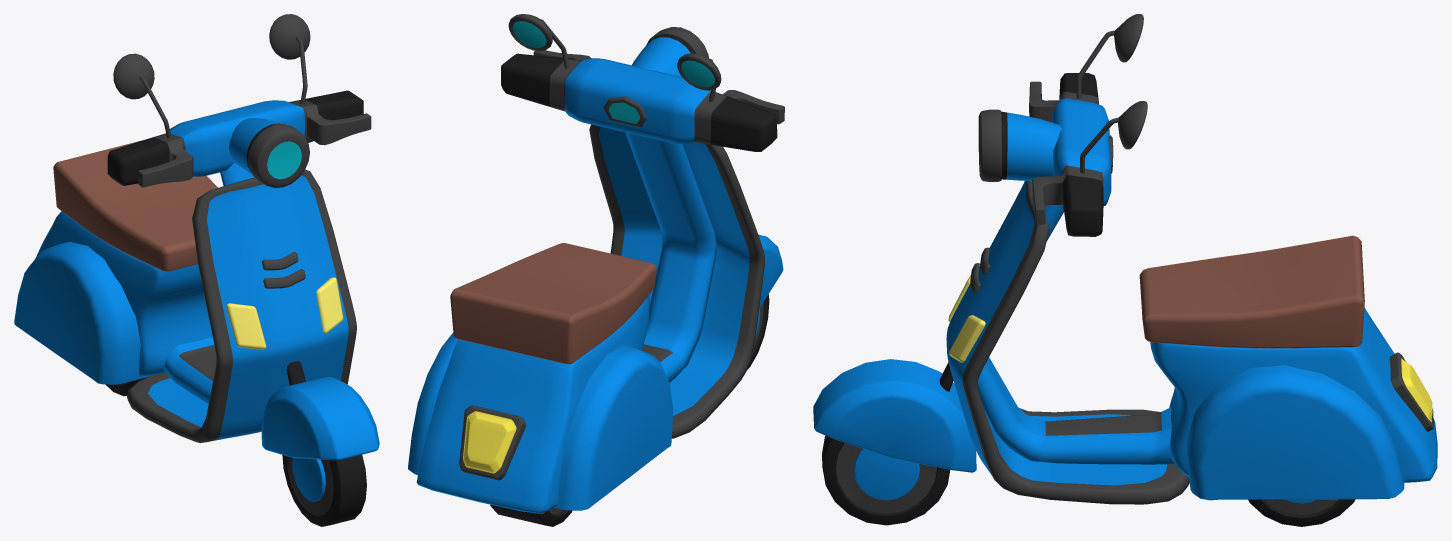
File: Town_6_Ial_6_Scooter_3.glb
3 renders of one model, left to right at view 1: azimuth 30°, elevation 25°; view 2: azimuth 150°, elevation 25°; view 3: azimuth 270°, elevation 25°, orthographic. The views are drawn at different scales.
Visible parts, largest first — view 1: Town_6_Ial_6_Scooter_3; view 2: Town_6_Ial_6_Scooter_3; view 3: Town_6_Ial_6_Scooter_3.
Boxes of the visible parts, x1,y1,x2,y2 form: Town_6_Ial_6_Scooter_3: [14, 14, 379, 526]; Town_6_Ial_6_Scooter_3: [408, 14, 784, 526]; Town_6_Ial_6_Scooter_3: [813, 14, 1437, 526].
Size of the model in its own units: 1.2 by 1.87 by 2.32.
Materials: 1 (1 with a texture image).
